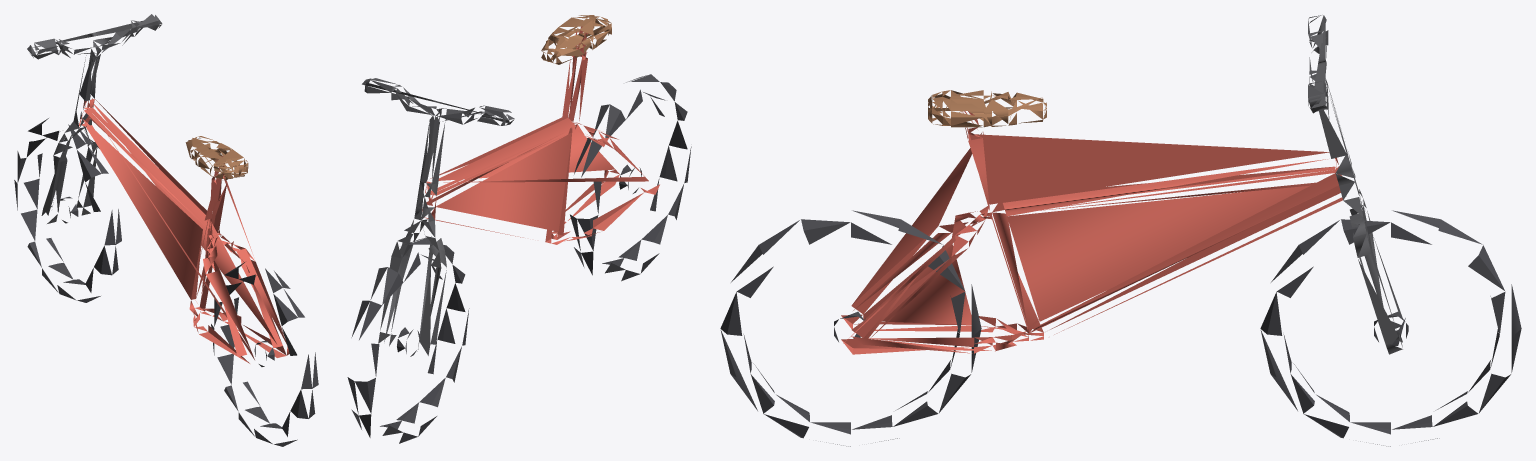
File: bicycle.glb
3 renders of one model, left to right at view 1: azimuth 30°, elevation 25°; view 2: azimuth 150°, elevation 25°; view 3: azimuth 270°, elevation 25°, orthographic. The views are drawn at different scales.
Visible parts, largest first — view 1: SquareFrameBicycle; view 2: SquareFrameBicycle; view 3: SquareFrameBicycle.
Part boxes in pixels (x1,y1,x2,y2): SquareFrameBicycle: (14,14,318,446); SquareFrameBicycle: (347,15,691,443); SquareFrameBicycle: (720,15,1521,446).
Bounding box in the file's own units: 0.5227 × 1.09 × 2.02.
